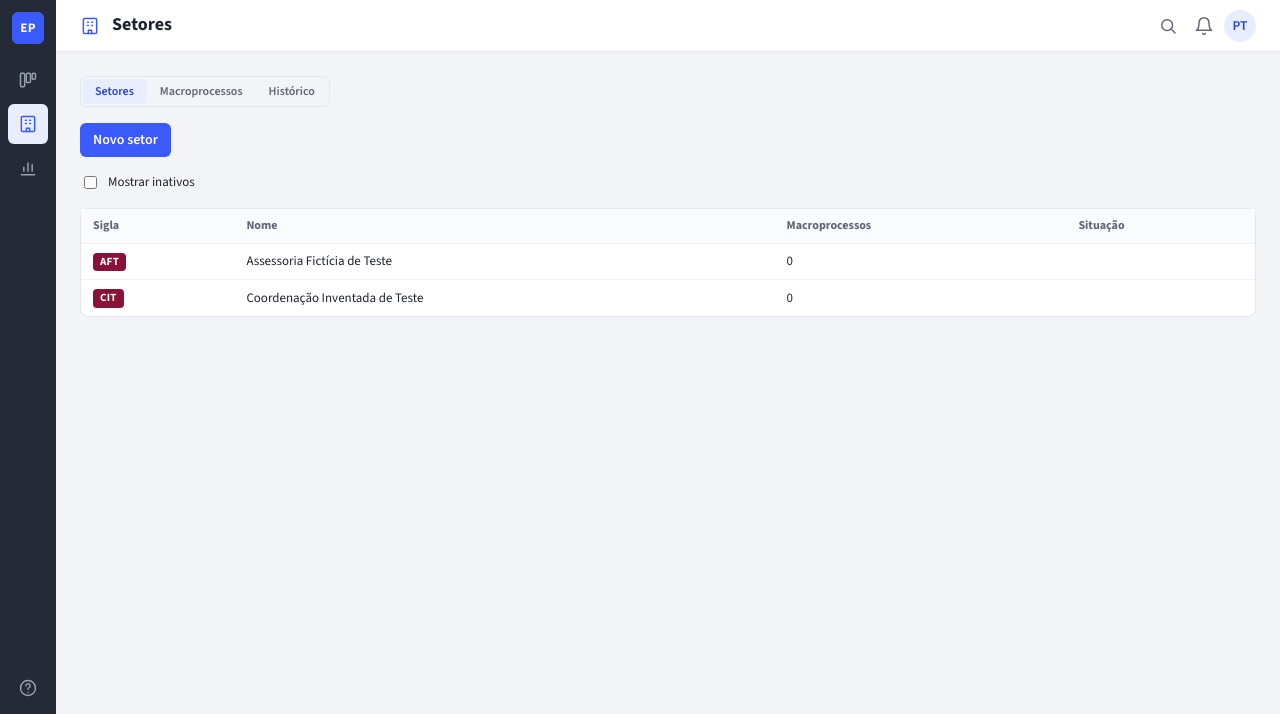
Test: depois de desativar e voltar à lista, o setor some da lista dos ativos
The width and height of the screenshot is (1280, 714).
Click the cell "AFT" at (158, 262), box x1=81 y1=244 x2=234 y2=280
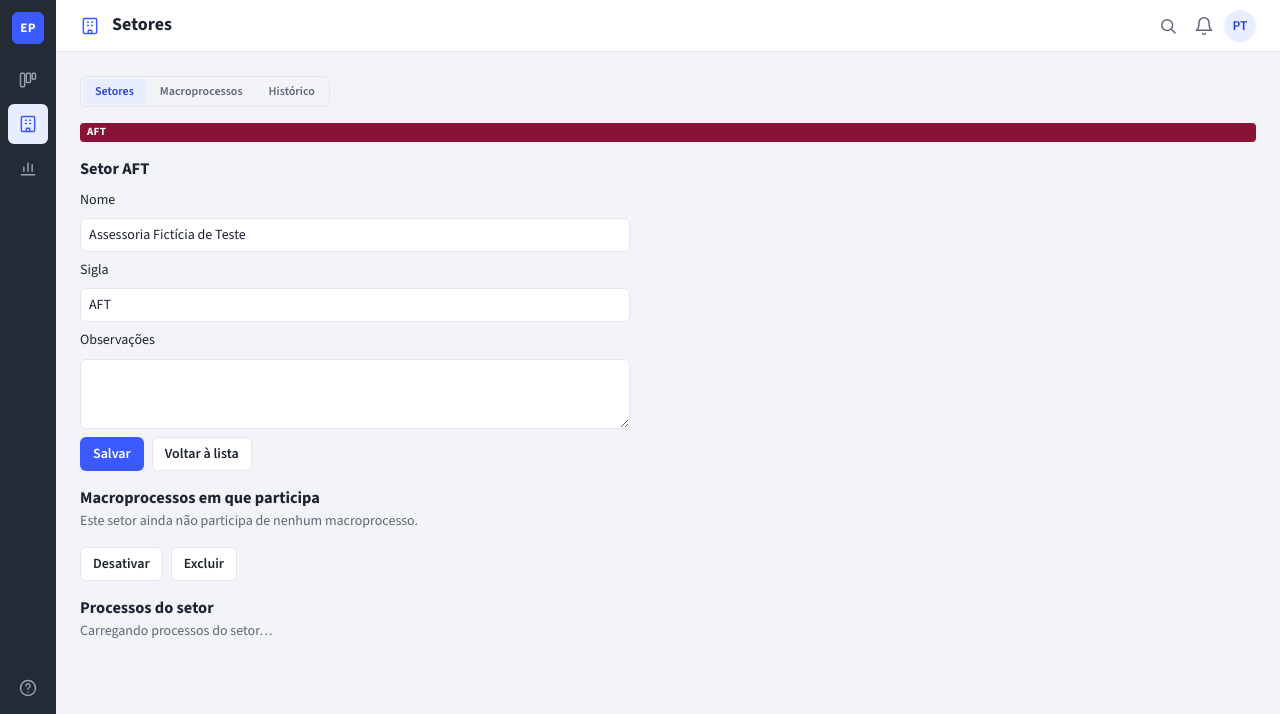
Click the button "Desativar" at (121, 564), box x1=80 y1=547 x2=163 y2=581
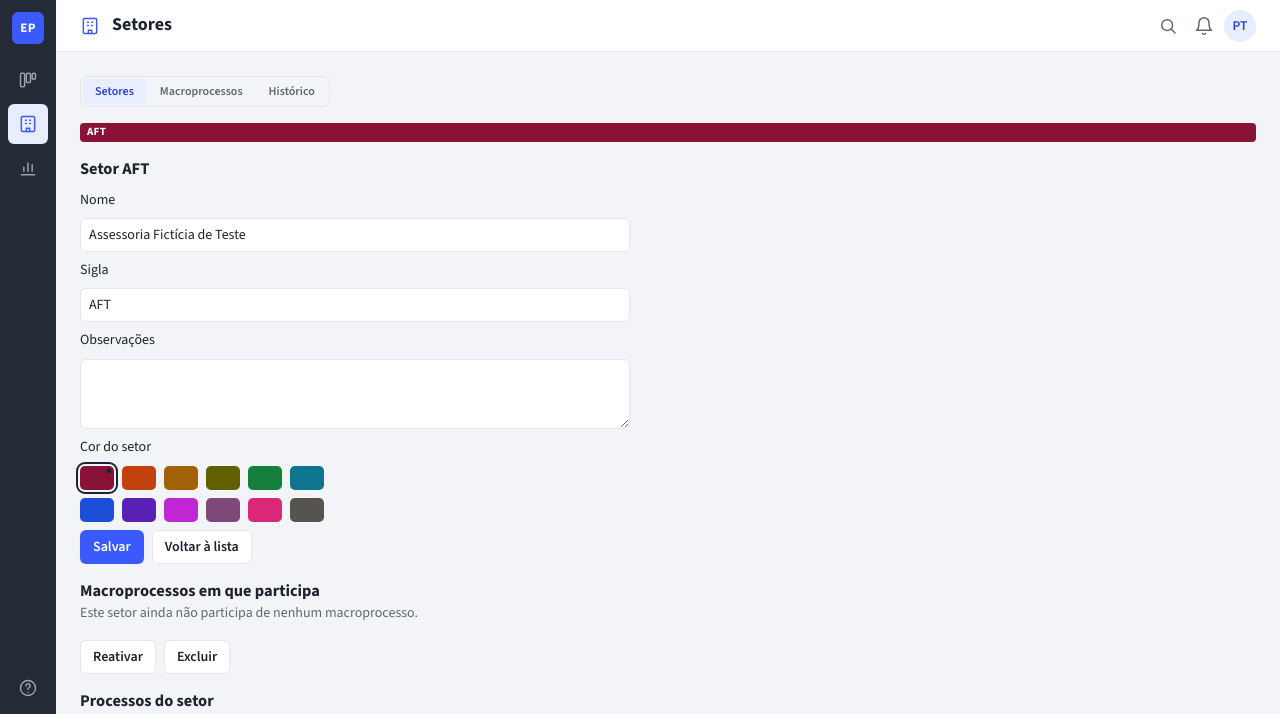
Expected: the button "Reativar" is shown, x1=80 y1=640 x2=156 y2=674
Click the button "Voltar à lista" at (202, 547), box x1=152 y1=530 x2=252 y2=564
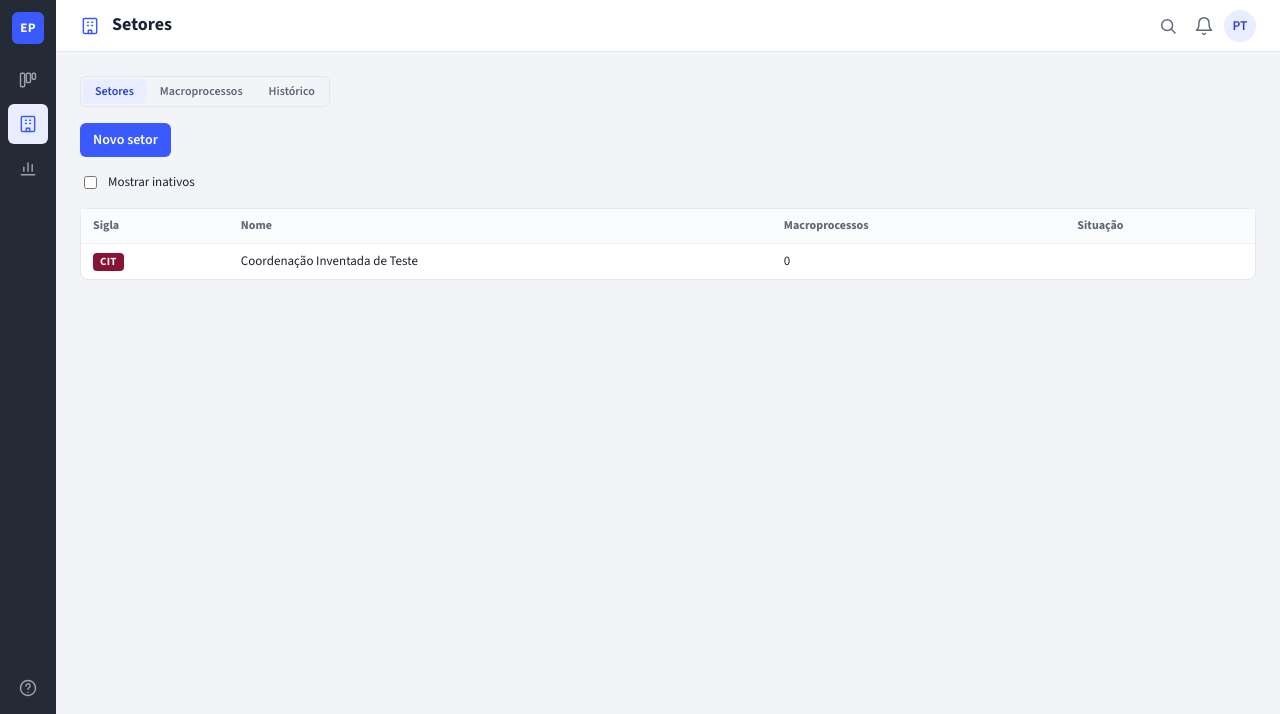
Expected: the cell "CIT" is shown, x1=81 y1=244 x2=229 y2=279
Expected: the text "AFT" is gone
